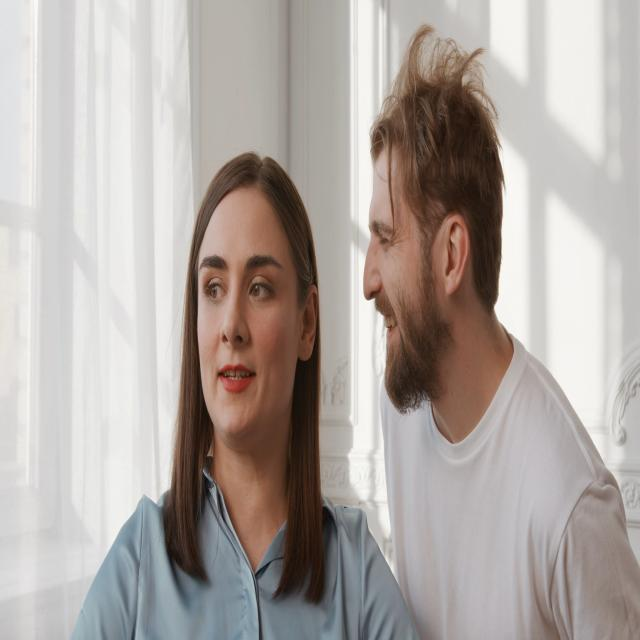happy: (353, 36, 507, 478), (181, 153, 325, 460)
